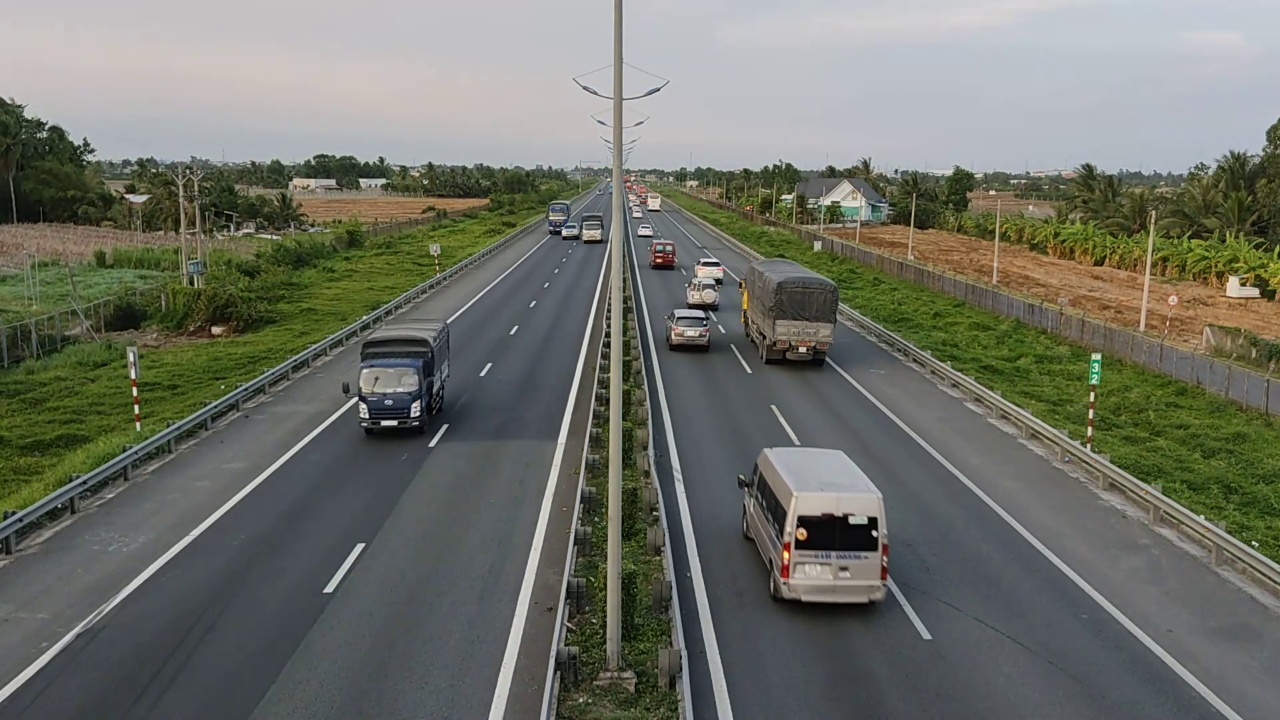car: (736, 445, 891, 605), (664, 308, 712, 352), (685, 277, 721, 309), (648, 239, 677, 269)
truck: (355, 317, 452, 436), (740, 257, 839, 365)
